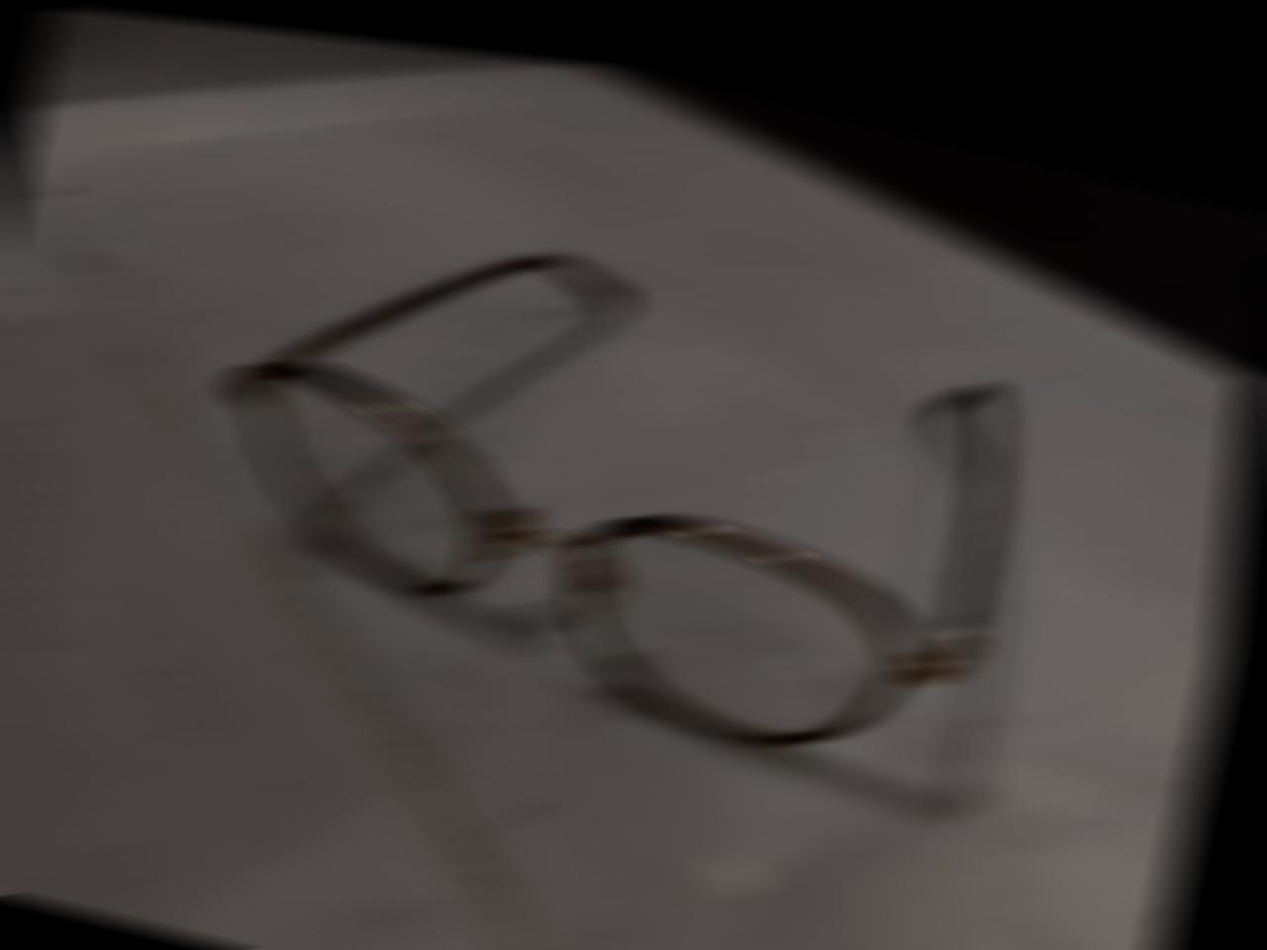glasses: (166, 176, 1061, 808)
